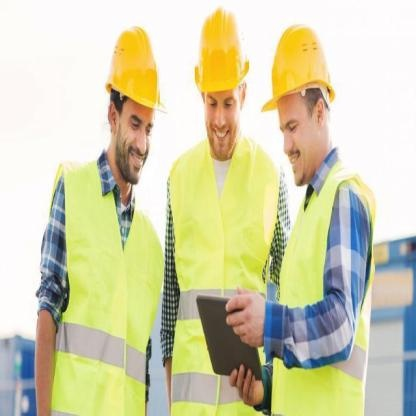vest: (163, 126, 285, 415), (49, 154, 169, 416), (267, 158, 384, 415)
yellow: (258, 19, 338, 125), (102, 17, 173, 116), (192, 8, 254, 97)
